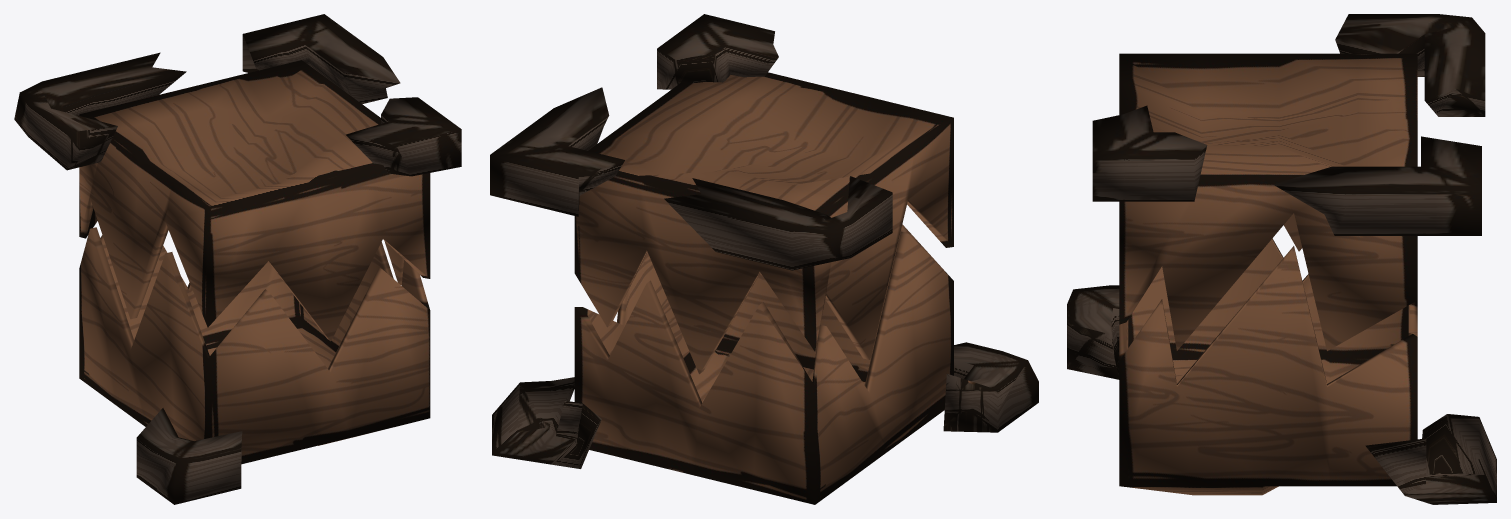
Rendered from destroyedParts.fbx.
3 views of the same model, side by side, from view 1: azimuth 30°, elevation 25°; view 2: azimuth 150°, elevation 25°; view 3: azimuth 270°, elevation 25° (orthographic). The views are drawn at different scales.
Parts seen in each view (by area): view 1: Cube, Cube.001, Cube.002, Cube.004, Cube.005, Cube.003; view 2: Cube, Cube.001, Cube.002, Cube.004, Cube.006, Cube.005, Cube.003; view 3: Cube, Cube.001, Cube.004, Cube.002, Cube.003, Cube.006, Cube.005.
Boxes of the visible parts, x1,y1,x2,y2 form: Cube: (79, 60, 430, 341); Cube.001: (79, 227, 430, 464); Cube.002: (14, 52, 186, 170); Cube.004: (242, 14, 400, 104); Cube.005: (136, 408, 242, 504); Cube.003: (346, 97, 461, 176); Cube: (574, 72, 953, 374); Cube.001: (574, 224, 953, 504); Cube.002: (664, 176, 892, 270); Cube.004: (490, 87, 624, 216); Cube.006: (492, 377, 601, 468); Cube.005: (943, 342, 1038, 432); Cube.003: (657, 14, 778, 89); Cube: (1119, 53, 1417, 350); Cube.001: (1119, 238, 1417, 495); Cube.004: (1273, 136, 1481, 235); Cube.002: (1335, 14, 1485, 116); Cube.003: (1092, 105, 1207, 201); Cube.006: (1365, 414, 1496, 504); Cube.005: (1067, 285, 1119, 379).
Size of the model in its own units: 299 by 279 by 288.
